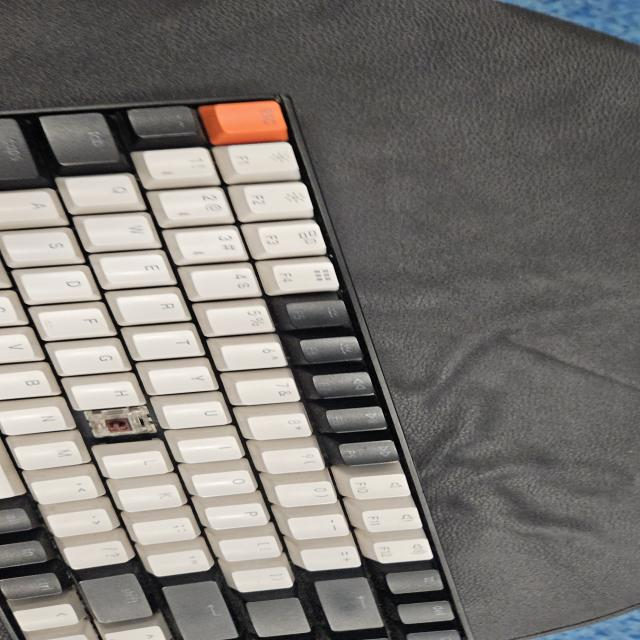C: (90, 415, 140, 438)
